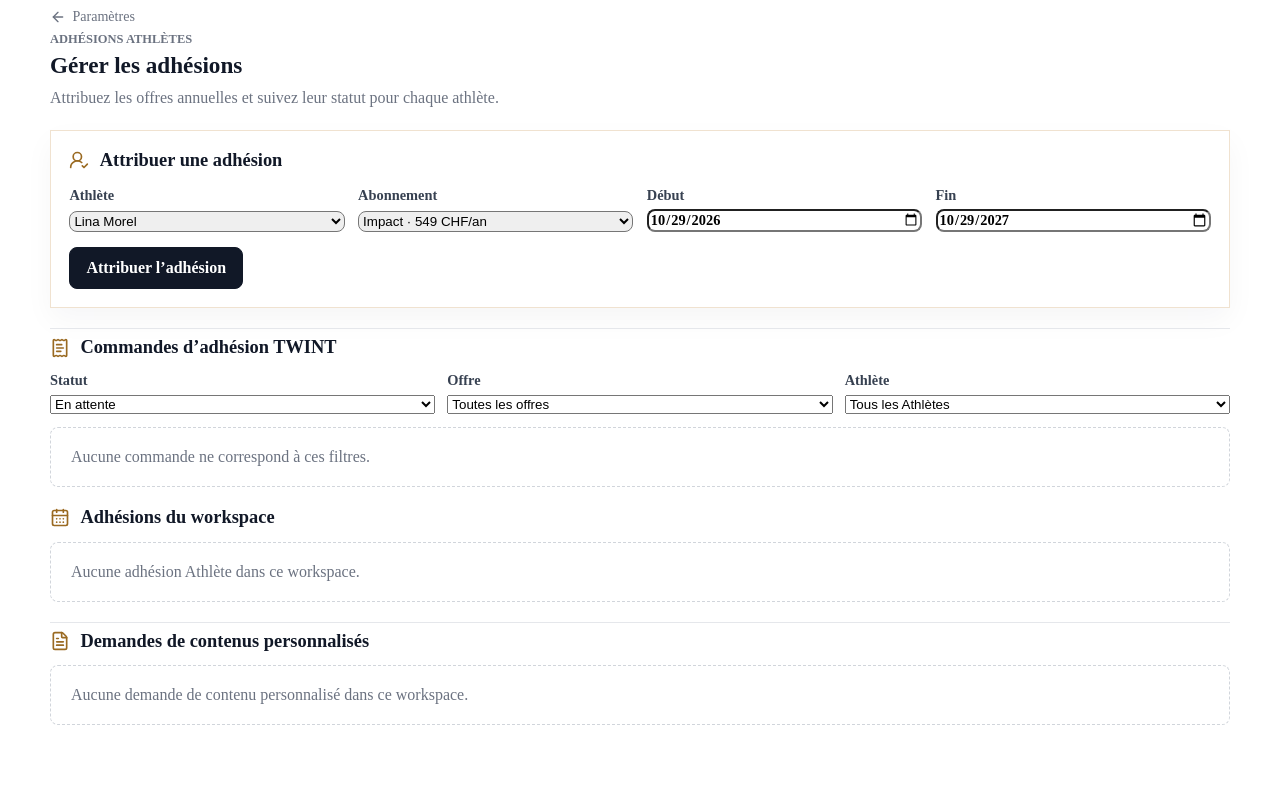
Test case: Athlete memberships settings page › creates a canonical membership for the selected athlete and refreshes the projection
The image size is (1280, 792).
Select "Lina Morel" in the dropdown labelled "Athlète" below "Abonnement". click: (207, 222)
box: left=69, top=211, right=344, bottom=232
Select "Lina Morel" in the dropdown labelled "Athlète" below "Abonnement". click: (207, 222)
box: left=69, top=211, right=344, bottom=232
Select "Impact · 549 CHF/an" in the dropdown labelled "Abonnement". click: (496, 222)
box: left=358, top=211, right=633, bottom=232
Select "Impact · 549 CHF/an" in the dropdown labelled "Abonnement". click: (496, 222)
box: left=358, top=211, right=633, bottom=232
Submit the form, box left=69, top=187, right=1211, bottom=289
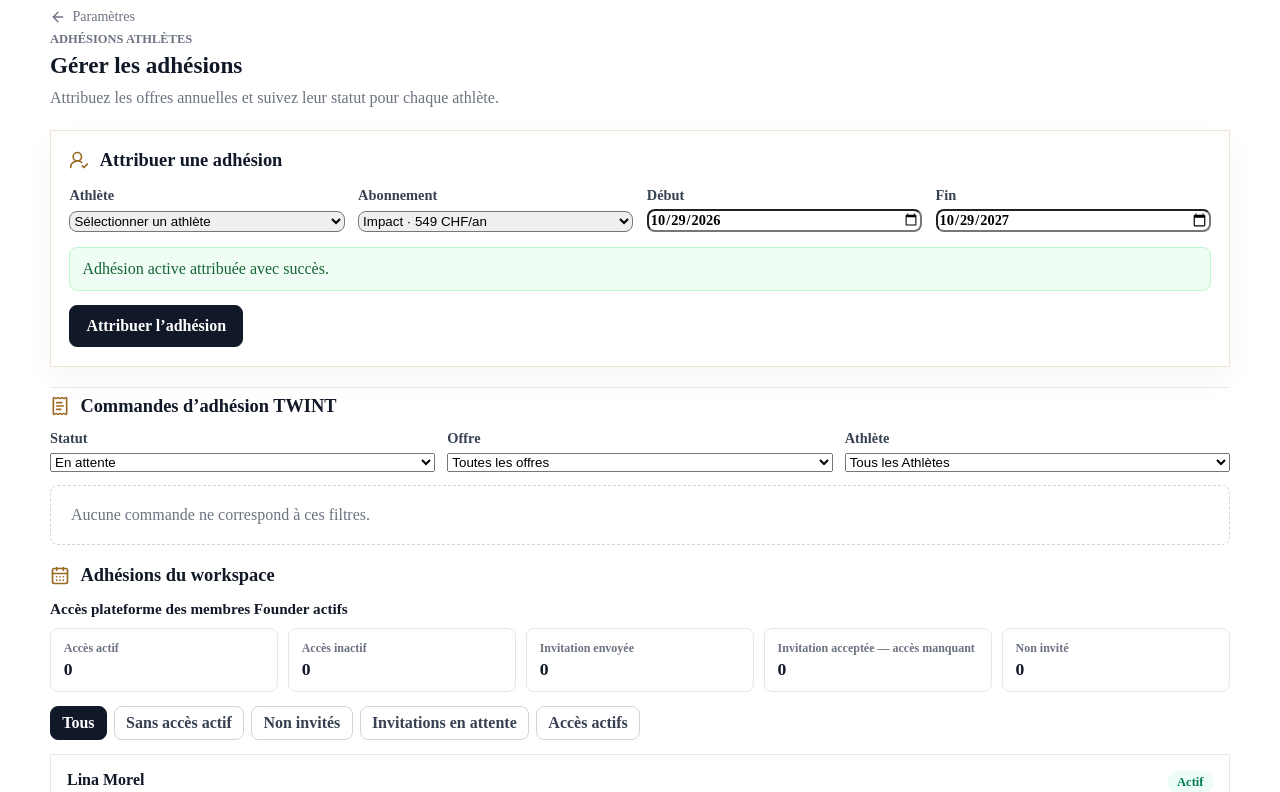
Check: the message "Adhésion active attribuée avec succès." is shown, box left=69, top=246, right=1211, bottom=290
